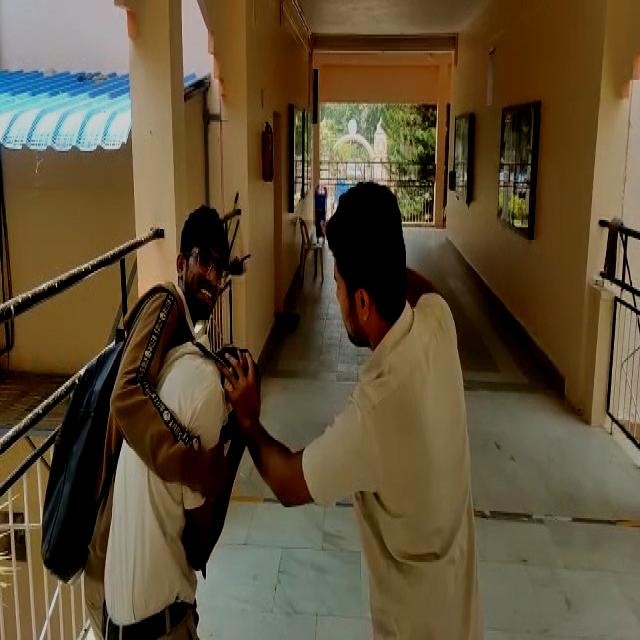fight: (79, 118, 498, 602)
